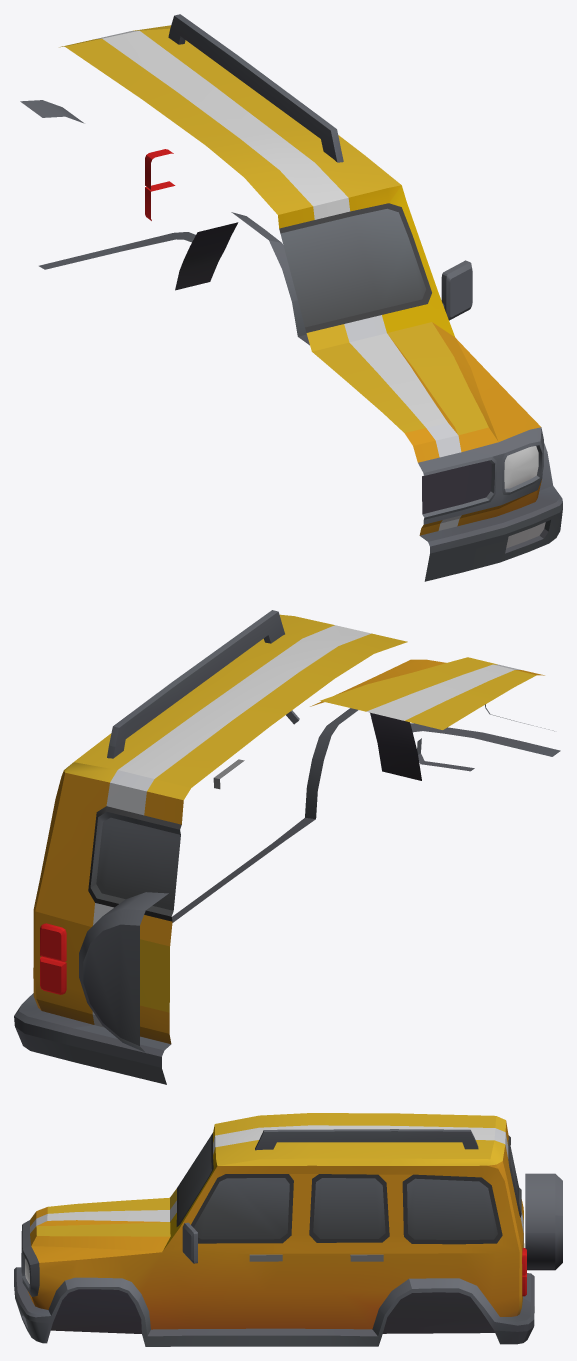
File: car6.glb
3 renders of one model, top to bottom at view 1: azimuth 30°, elevation 25°; view 2: azimuth 150°, elevation 25°; view 3: azimuth 270°, elevation 25°, orthographic. The views are drawn at different scales.
Visible parts, largest first — view 1: car6; view 2: car6; view 3: car6.
Boxes of the visible parts, x1,y1,x2,y2 form: car6: [20, 14, 562, 581]; car6: [14, 610, 560, 1084]; car6: [14, 1113, 562, 1346].
Size of the model in its own units: 0.2779 by 0.4469 by 1.12.
